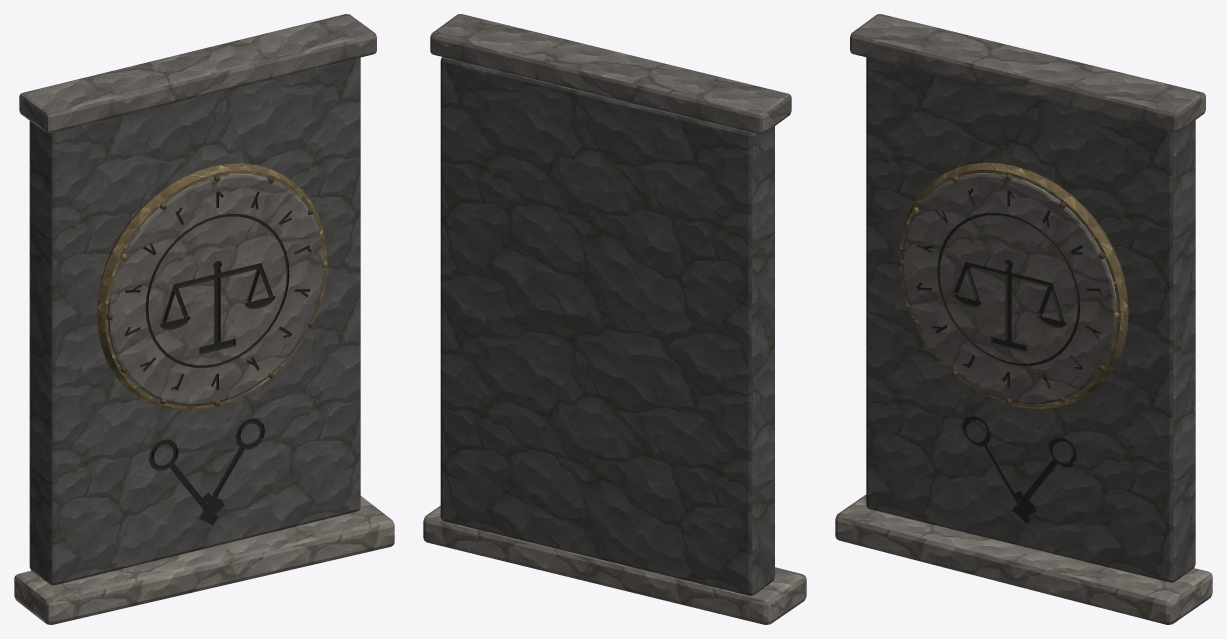
Rendered from bv_guild_medallion.glb.
3 renders of one model, left to right at view 1: azimuth 30°, elevation 25°; view 2: azimuth 150°, elevation 25°; view 3: azimuth 330°, elevation 25°, orthographic.
Visible parts, largest first — view 1: model; view 2: model; view 3: model.
Part boxes in pixels (bbox=[...]): model: bbox=[14, 14, 394, 624]; model: bbox=[423, 14, 806, 624]; model: bbox=[835, 14, 1212, 624].
Size of the model in its own units: 1.34 by 1.87 by 0.2851.
6 materials, 5 textured.
